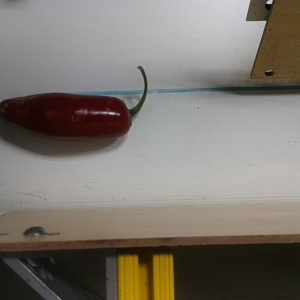Cut Point: (109, 94, 140, 136)
